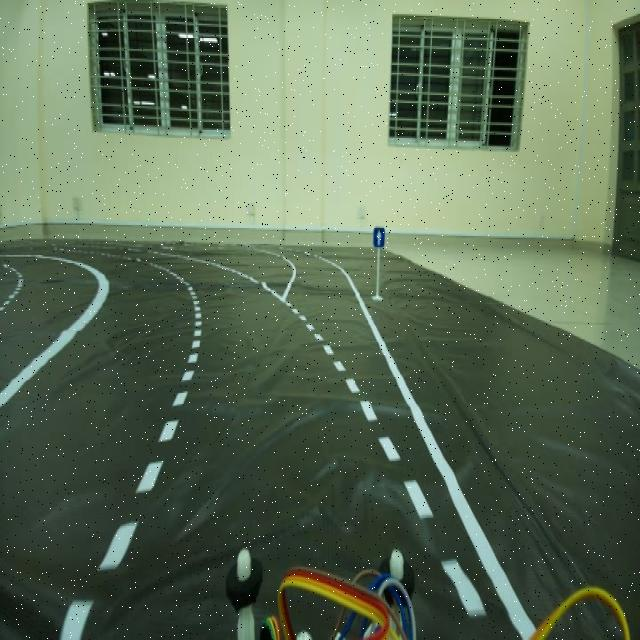onewayroad: (367, 216, 385, 258)
